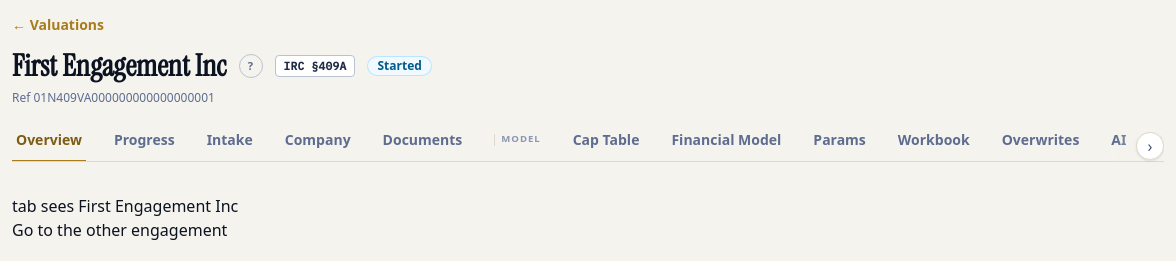
Scenario: ValuationWorkspace — navigating between engagements › stops naming the engagement the user left while the next one loads
Expected: the heading "First Engagement Inc" is shown, x1=12 y1=48 x2=226 y2=84
Click the link "Go to the other engagement". click: (120, 230)
box: x1=12 y1=219 x2=227 y2=241
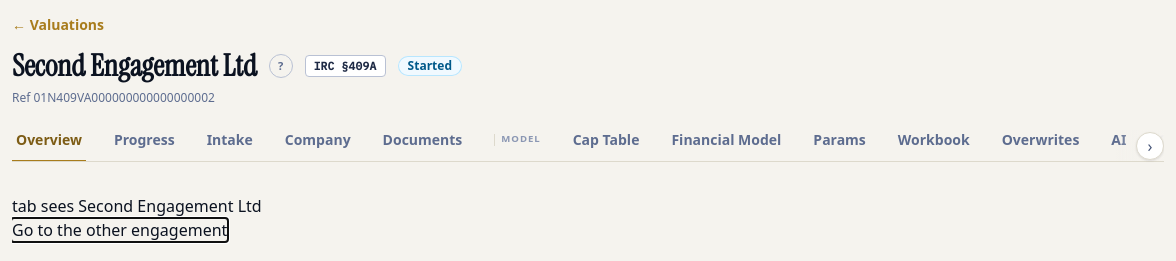
Expected: the heading "First Engagement Inc" is gone
Expected: the heading "Second Engagement Ltd" is shown, x1=12 y1=48 x2=257 y2=84
